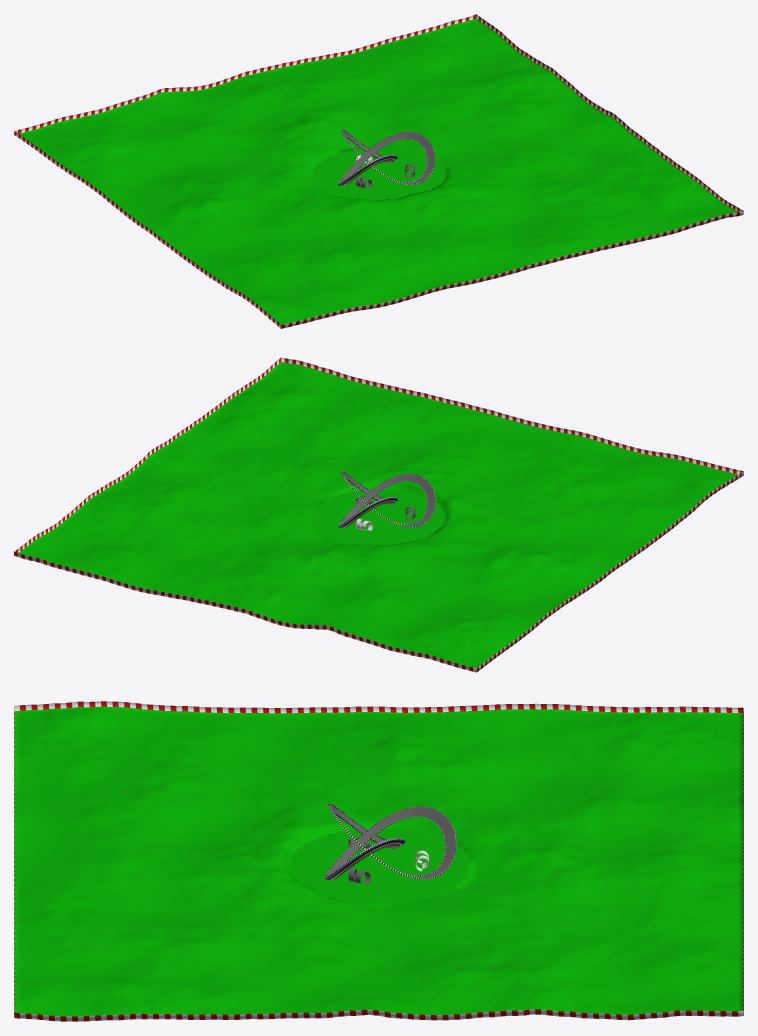
The model's file is Cenario Subdividido.glb.
3 renders of one model, top to bottom at view 1: azimuth 30°, elevation 25°; view 2: azimuth 150°, elevation 25°; view 3: azimuth 270°, elevation 25°, orthographic. The views are drawn at different scales.
Parts seen in each view (by area): view 1: Landscape.001, Pista Triangulada; view 2: Landscape.001, Pista Triangulada; view 3: Landscape.001, Pista Triangulada.
Boxes of the visible parts, x1,y1,x2,y2 form: Landscape.001: (14, 14, 743, 328); Pista Triangulada: (338, 129, 435, 185); Landscape.001: (14, 357, 743, 672); Pista Triangulada: (338, 471, 435, 527); Landscape.001: (14, 701, 743, 1021); Pista Triangulada: (324, 803, 456, 879).
Bounding box in the file's own units: 5933 × 470 × 5934.
